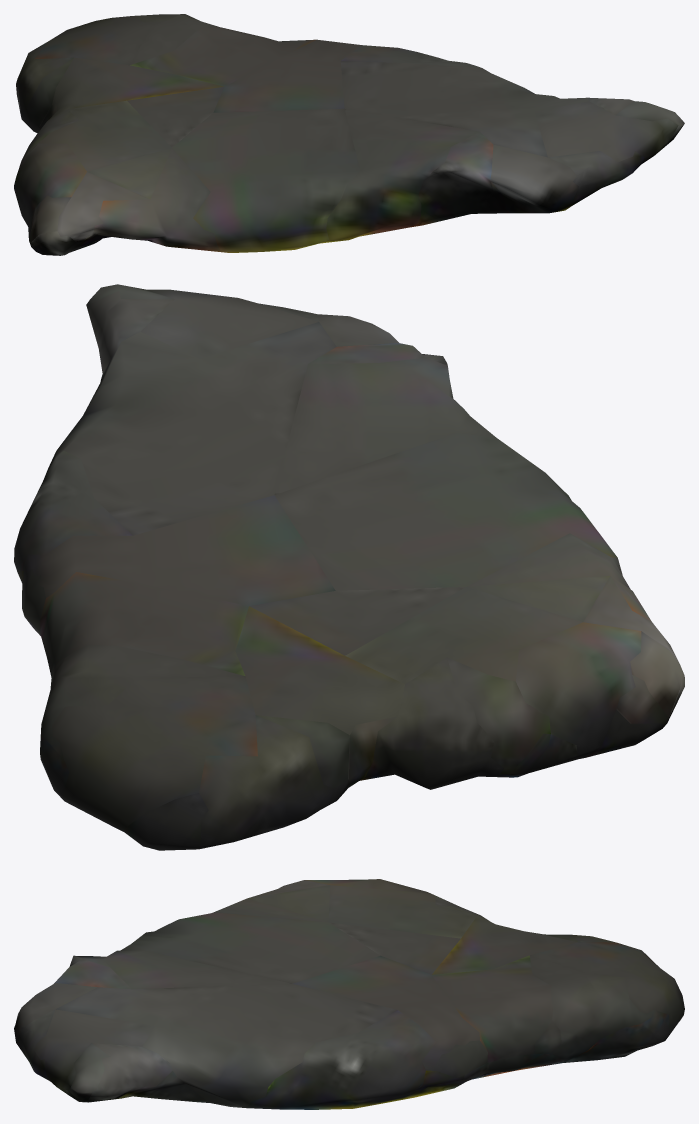
File: hall.glb
The picture shows the model from 3 angles, top to bottom: view 1: azimuth 30°, elevation 25°; view 2: azimuth 150°, elevation 25°; view 3: azimuth 270°, elevation 25°; orthographic projection. The views are drawn at different scales.
Bounding box in the file's own units: 0.5158 × 0.1175 × 0.5588.
Materials: 1 (1 with a texture image).
